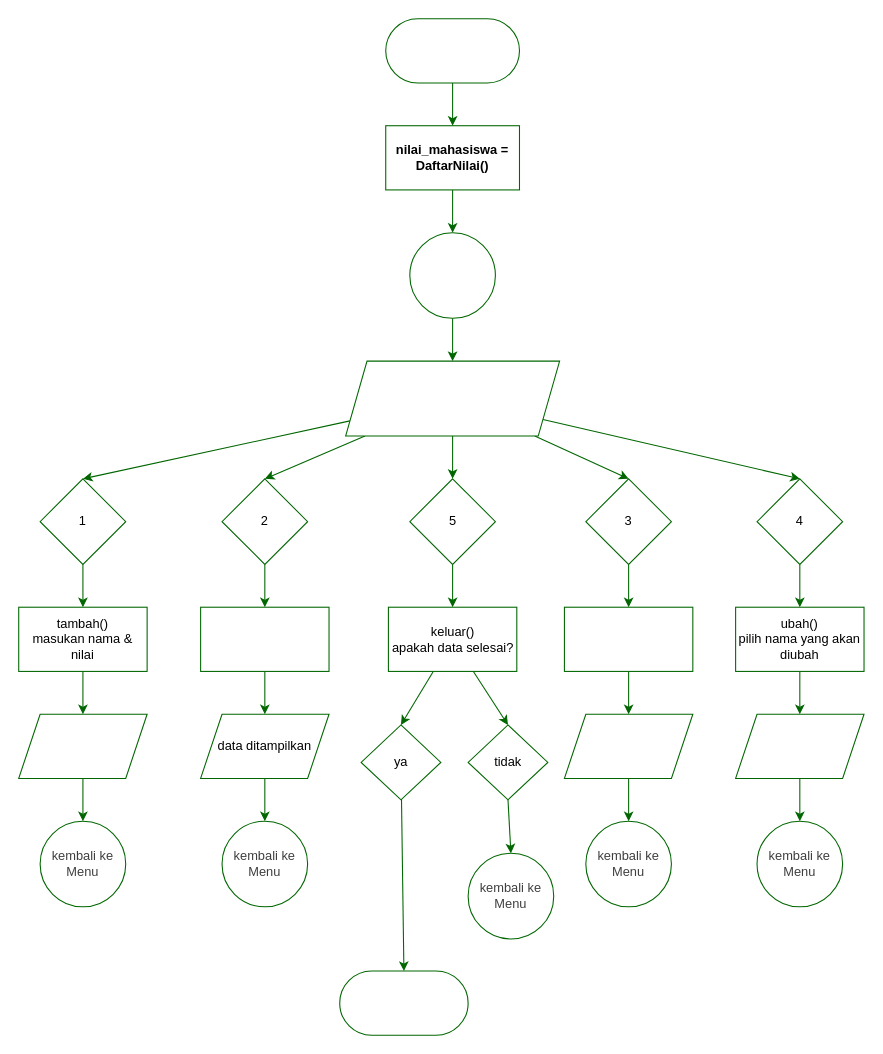
Image size: 883x1054. Some labels were removed from this diagram. Each missing label, with the centre of its shape:
"data dihapus" goes at (628,745).
"data diubah" goes at (799,745).
"data telah disimpan" goes at (82,745).
"END" goes at (403,1002).
"hapus() pilih nama yang akan dihapus" goes at (628,638).
"MENU UTAMA" goes at (452,275).
"START" goes at (452,50).
"Tampilkan Menu (1-Tambah, 2-Tampil, 3-Hapus, 4-Ubah, 5-Keluar) & Input Pilihan" goes at (452,398).
"tampilkan() tampilkan hasil dari (1, 2, 3 dan 4)" goes at (264,638).
